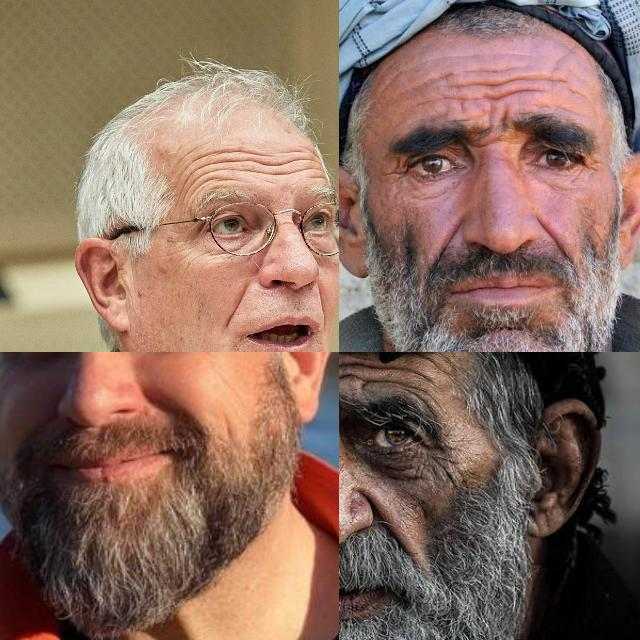crows_feet: (416, 440, 448, 478), (386, 156, 410, 182), (582, 152, 602, 180)
forehead: (339, 353, 400, 378), (224, 140, 260, 180), (184, 154, 216, 190), (266, 147, 298, 180), (300, 141, 324, 185), (364, 372, 406, 392), (520, 68, 566, 86), (469, 62, 511, 80), (482, 85, 522, 101), (428, 65, 459, 85), (381, 66, 409, 88), (446, 92, 472, 110), (339, 369, 356, 386)
frown_line: (474, 120, 494, 146), (499, 105, 513, 138)
gummy_smile: (362, 491, 402, 542), (434, 216, 461, 258), (538, 218, 568, 252), (225, 281, 249, 323), (314, 282, 331, 324)
masseter: (221, 412, 235, 444)
